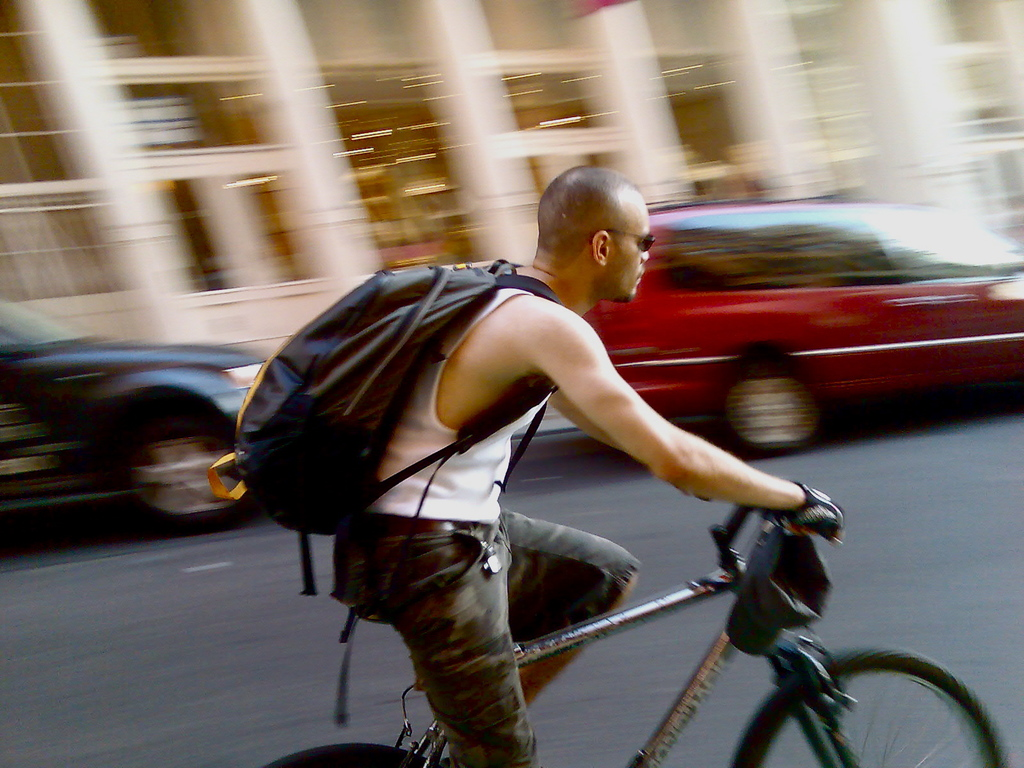Car: (585, 186, 1023, 449), (0, 297, 274, 523)
